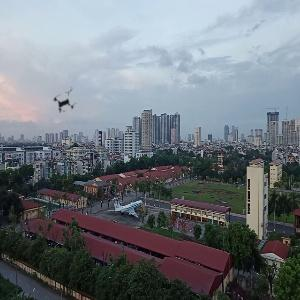drone: (40, 78, 93, 131)
